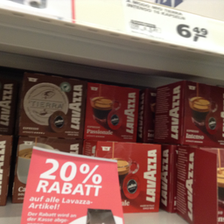coffee: (19, 73, 140, 141), (151, 81, 222, 145), (97, 144, 161, 212)
